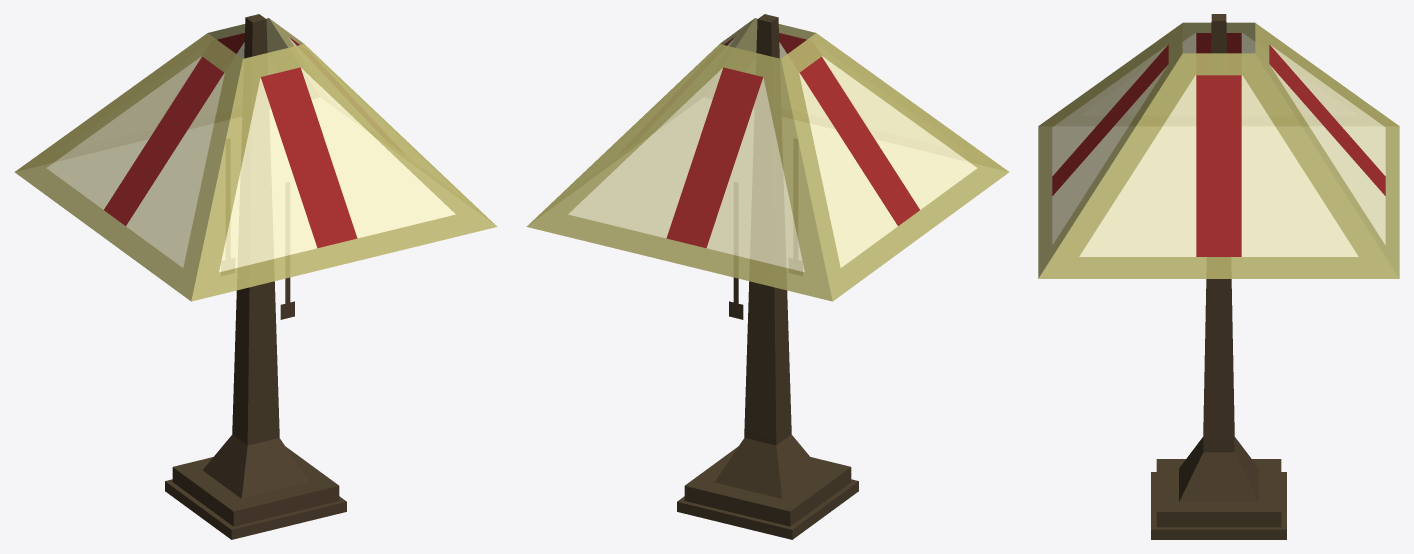
Rendered from TableLamp.FBX.
3 renders of one model, left to right at view 1: azimuth 30°, elevation 25°; view 2: azimuth 150°, elevation 25°; view 3: azimuth 270°, elevation 25°, orthographic. The views are drawn at different scales.
Parts seen in each view (by area): view 1: Component_1_2, Component_1_1; view 2: Component_1_1, Component_1_2; view 3: Component_1_1, Component_1_2.
Part boxes in pixels (left/top/right/bottom): Component_1_2: left=103, top=17, right=497, bottom=539; Component_1_1: left=14, top=14, right=308, bottom=515; Component_1_1: left=526, top=16, right=920, bottom=539; Component_1_2: left=715, top=14, right=1009, bottom=515; Component_1_1: left=1216, top=14, right=1399, bottom=539; Component_1_2: left=1038, top=14, right=1221, bottom=539.
Size of the model in its own units: 35.8 by 53.95 by 35.8.
